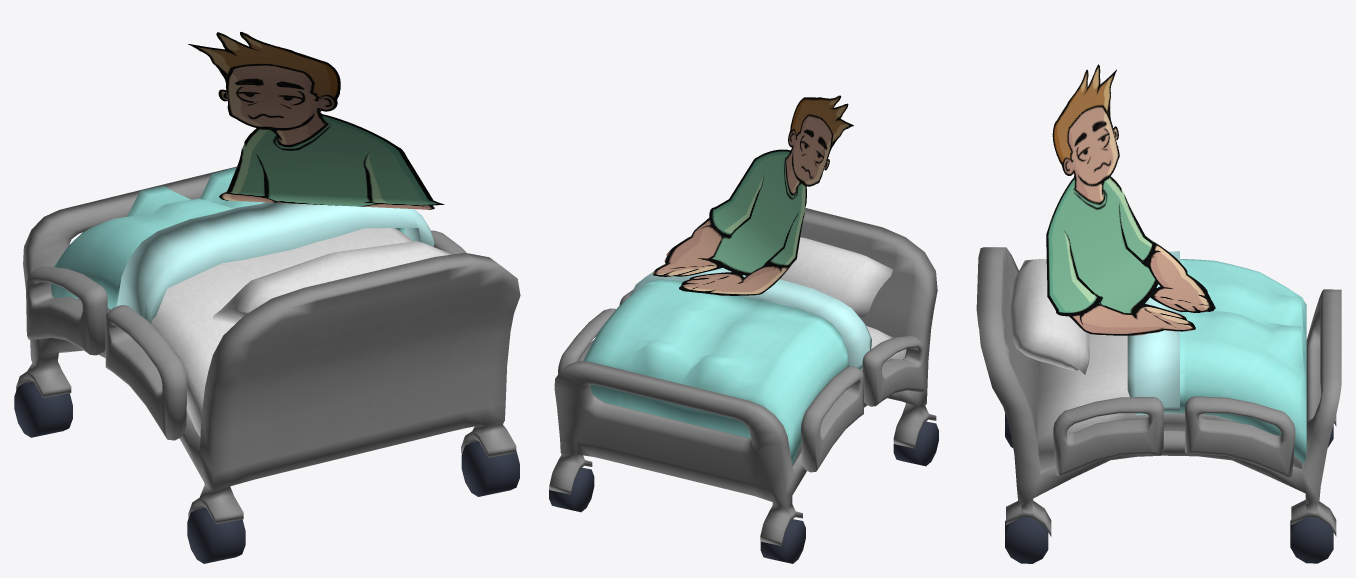
Rendered from Bed_Patient_1_E.glb.
The picture shows the model from 3 angles, left to right: view 1: azimuth 30°, elevation 25°; view 2: azimuth 150°, elevation 25°; view 3: azimuth 270°, elevation 25°; orthographic projection. The views are drawn at different scales.
Parts seen in each view (by area): view 1: BedGuardRight1.001, Occupant-HeadAndArms.001; view 2: BedGuardRight1.001, Occupant-HeadAndArms.001; view 3: BedGuardRight1.001, Occupant-HeadAndArms.001.
Part boxes in pixels (left/top/right/bottom): BedGuardRight1.001: left=14, top=166, right=520, bottom=563; Occupant-HeadAndArms.001: left=188, top=32, right=444, bottom=209; BedGuardRight1.001: left=549, top=208, right=938, bottom=563; Occupant-HeadAndArms.001: left=652, top=95, right=853, bottom=295; BedGuardRight1.001: left=976, top=247, right=1341, bottom=563; Occupant-HeadAndArms.001: left=1046, top=64, right=1215, bottom=335.
Bounding box in the file's own units: 1.53 × 1.83 × 1.5.
Materials: 2 (2 with a texture image).
